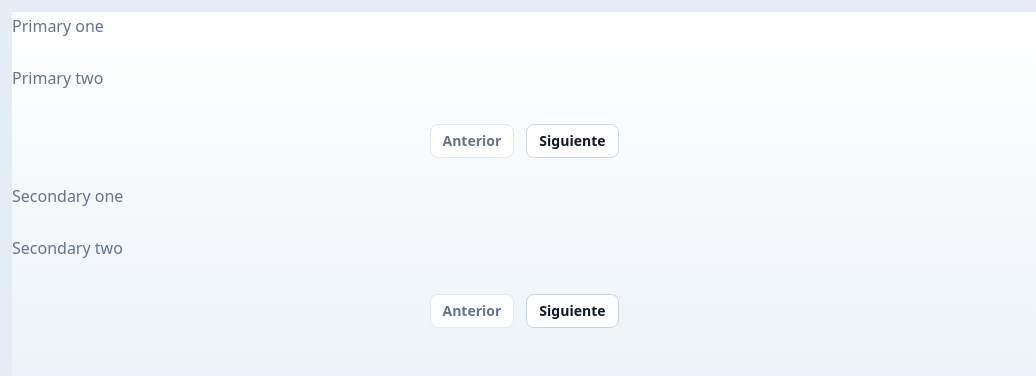
Test: RuntimePage › keeps paginated repeaters independent even when they read the same query
This screenshot has width=1036, height=376.
What coordinates should you click on to do the following:
click the 1st button "Siguiente"
I would click on:
 (572, 141)
Its box is [526, 124, 618, 158].
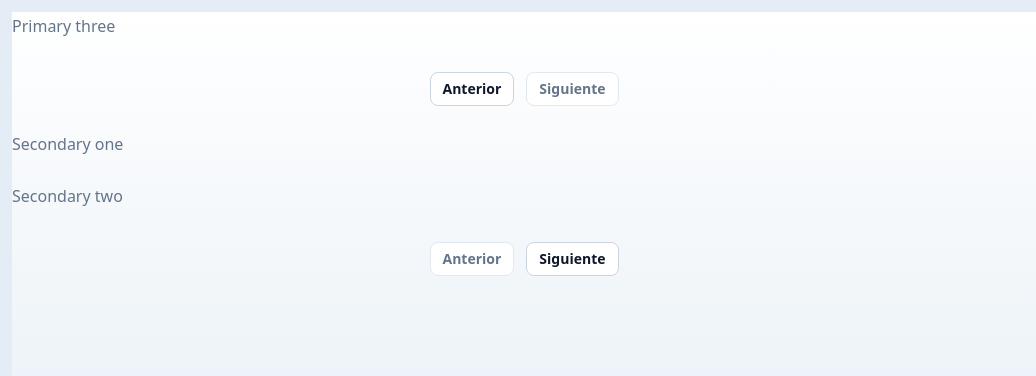
Expected: the text "Secondary one" is shown, [12, 133, 123, 155]
Result: the text "Primary three" is shown at [12, 15, 115, 37]
Result: the text "Primary one" is gone
